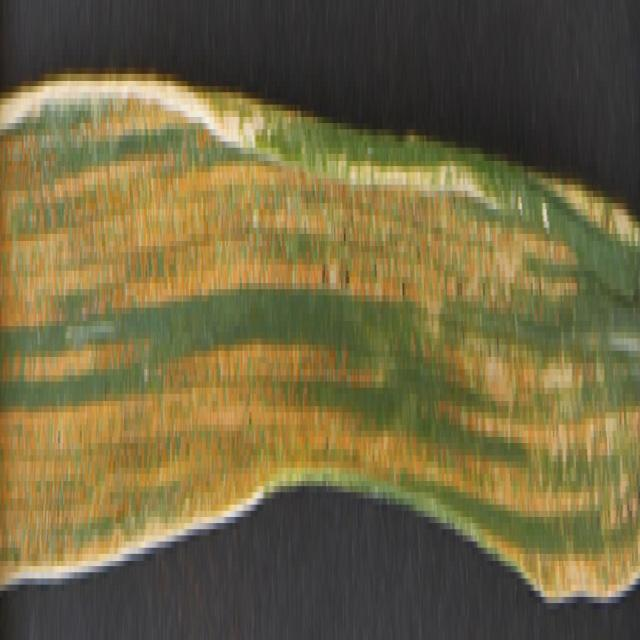leaf rust: (0, 86, 640, 615)
